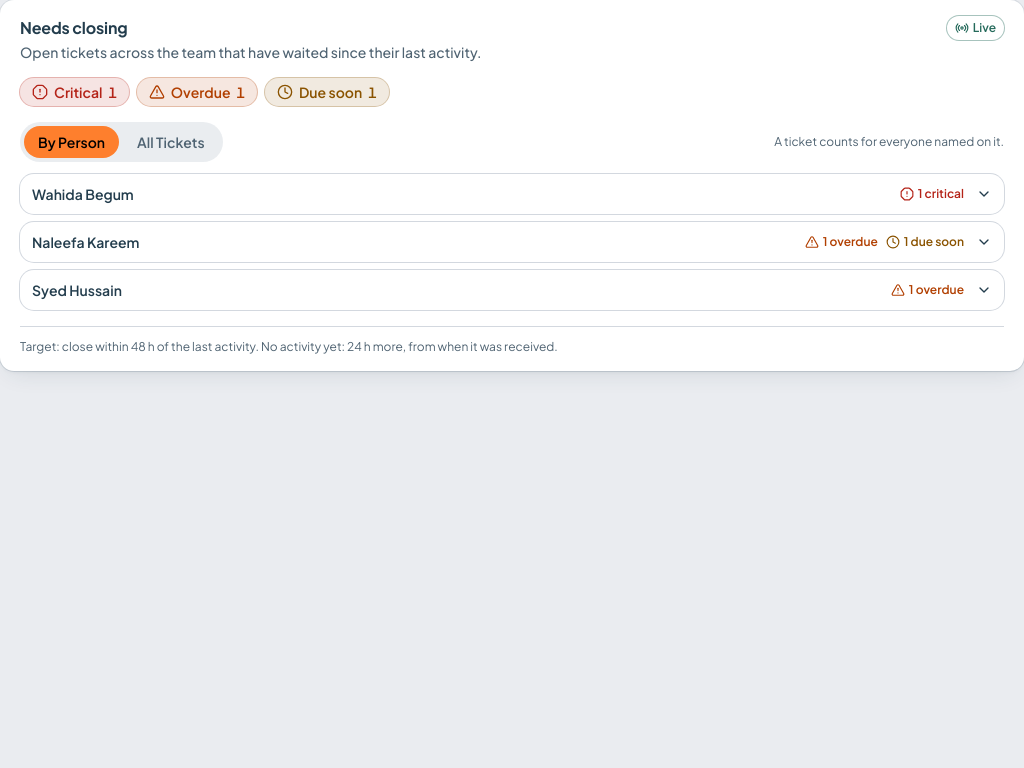
Needs closing box › gives admins By person and All tickets tabs
Check: the text "A ticket counts for everyone named on it." is shown, box [774, 134, 1004, 150]
Click the button "Naleefa Kareem 1 overdue 1 due soon".
click(86, 242)  # box [20, 222, 1004, 262]
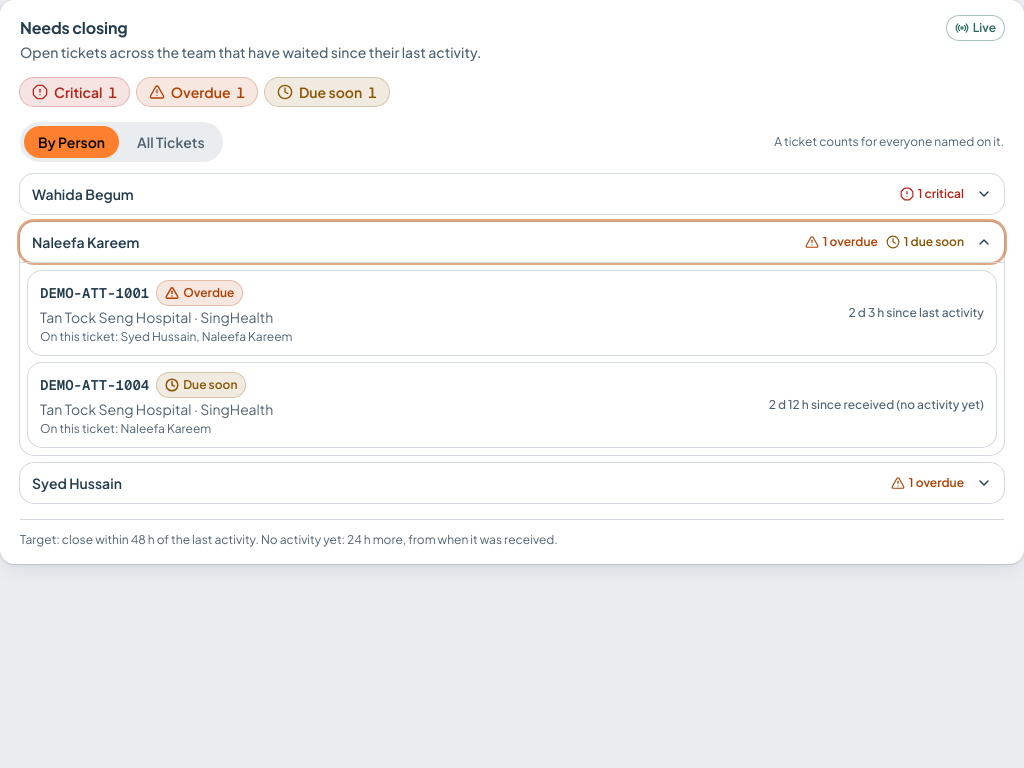
Check: the number of links is 2, box [28, 271, 996, 355]; [28, 363, 996, 447]
Click the tab "All Tickets".
click(171, 142)  # box [123, 126, 219, 158]
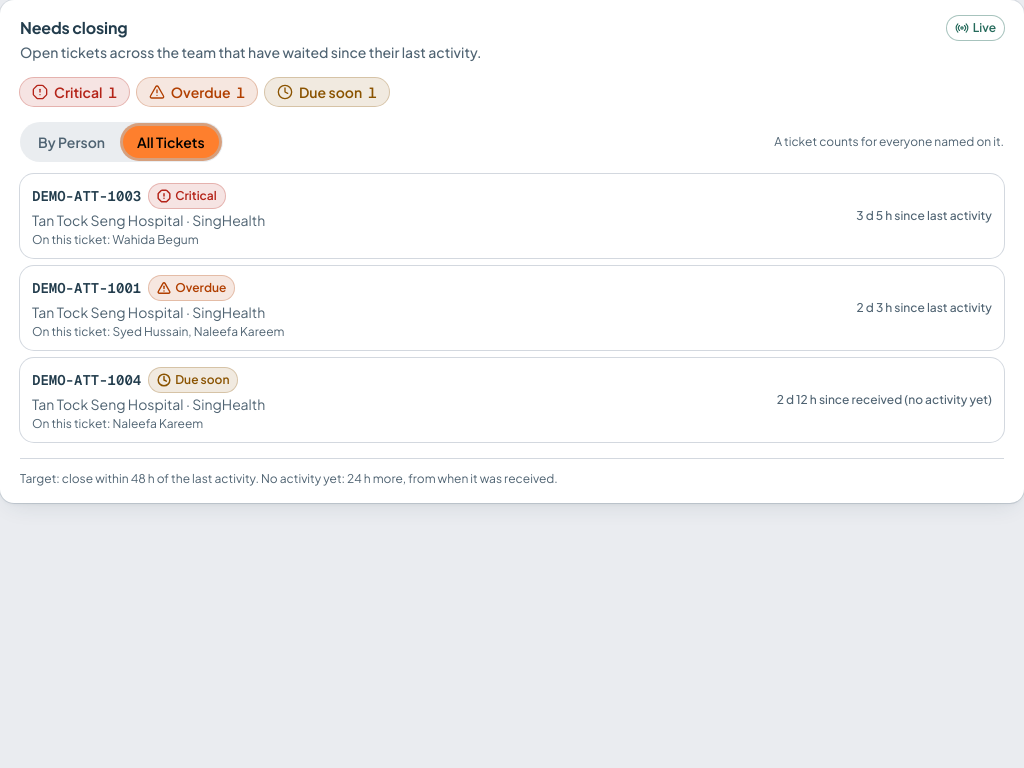
Check: the number of links is 3, box [20, 174, 1004, 258]; [20, 266, 1004, 350]; [20, 358, 1004, 442]
